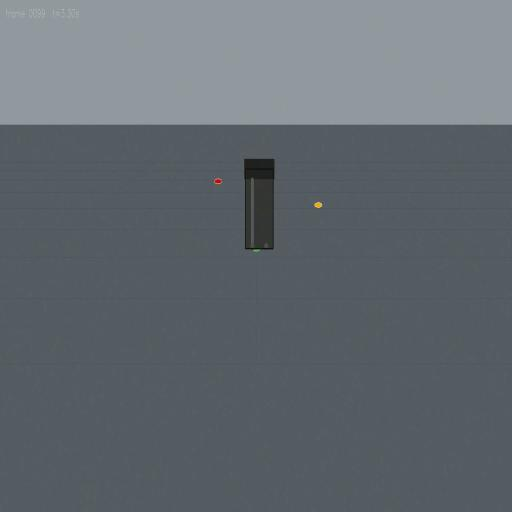bin: (244, 158, 275, 250)
